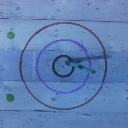Axe Tip: (72, 59, 83, 62)
